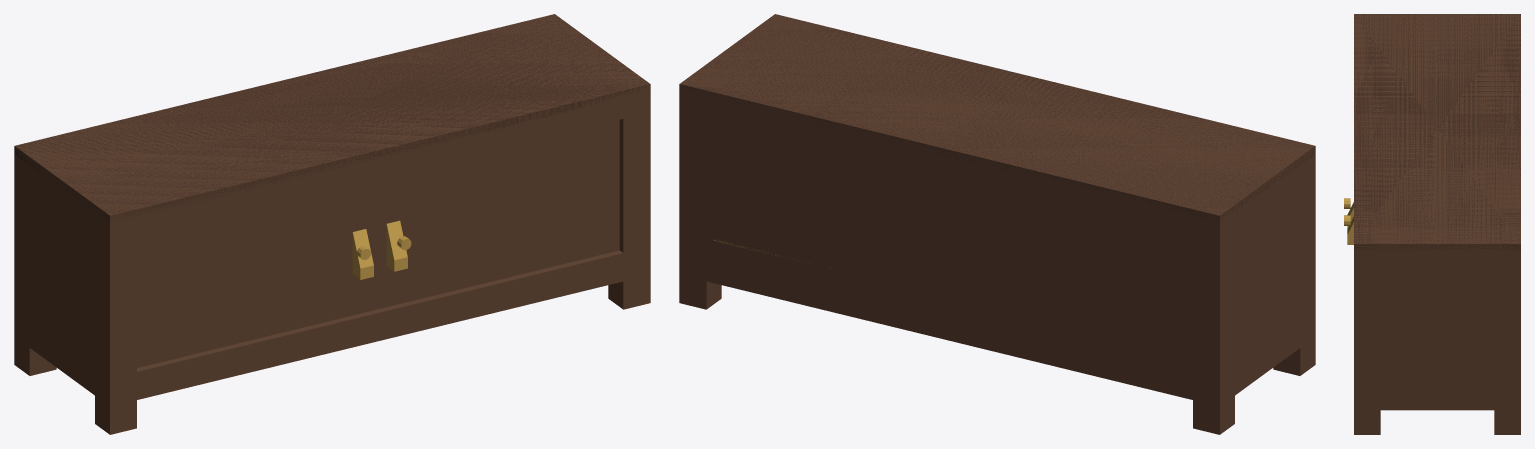
Rendered from cabinetTelevisionDoors.glb.
3 views of the same model, side by side, from view 1: azimuth 30°, elevation 25°; view 2: azimuth 150°, elevation 25°; view 3: azimuth 270°, elevation 25° (orthographic). The views are drawn at different scales.
Visible parts, largest first — view 1: cabinetTelevisionDoors(Clone), doorRight, doorLeft; view 2: cabinetTelevisionDoors(Clone); view 3: cabinetTelevisionDoors(Clone), doorRight.
Part boxes in pixels (box(x1,y1,x2,y2)): cabinetTelevisionDoors(Clone): box(14, 14, 650, 434); doorRight: box(376, 120, 619, 309); doorLeft: box(137, 179, 376, 367); cabinetTelevisionDoors(Clone): box(679, 14, 1315, 434); cabinetTelevisionDoors(Clone): box(1354, 14, 1520, 434); doorRight: box(1344, 215, 1353, 244).
Size of the model in its own units: 0.8 by 0.31 by 0.26.
